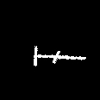double_crochet: (34, 46, 85, 65)
